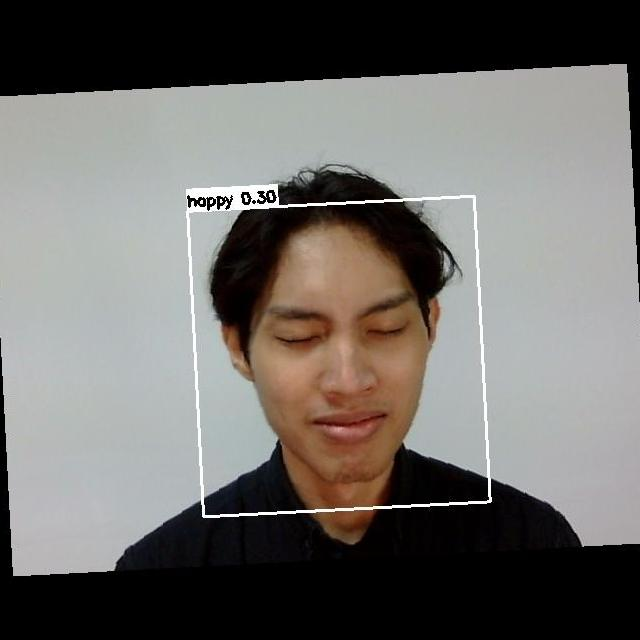Sad: (237, 275, 443, 456)
